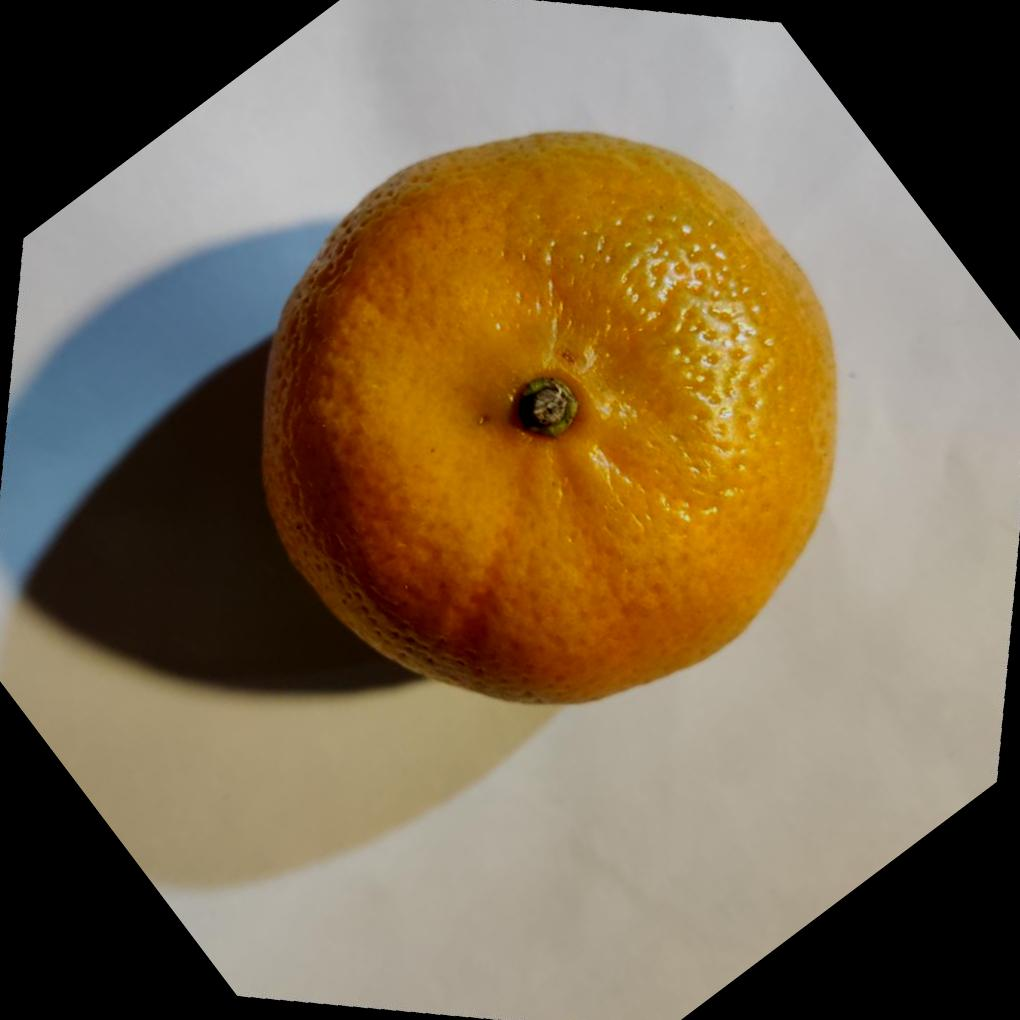FreshGuava: (260, 130, 844, 711)
